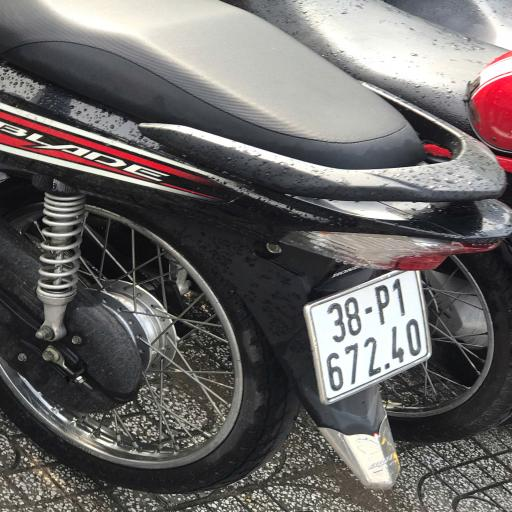0: (404, 320, 439, 363)
1: (392, 272, 411, 320)
2: (362, 336, 388, 380)
3: (321, 303, 349, 348)
4: (384, 322, 408, 370)
6: (321, 355, 346, 398)
7: (344, 340, 366, 388)
8: (344, 295, 364, 337)
P: (370, 284, 392, 324)
